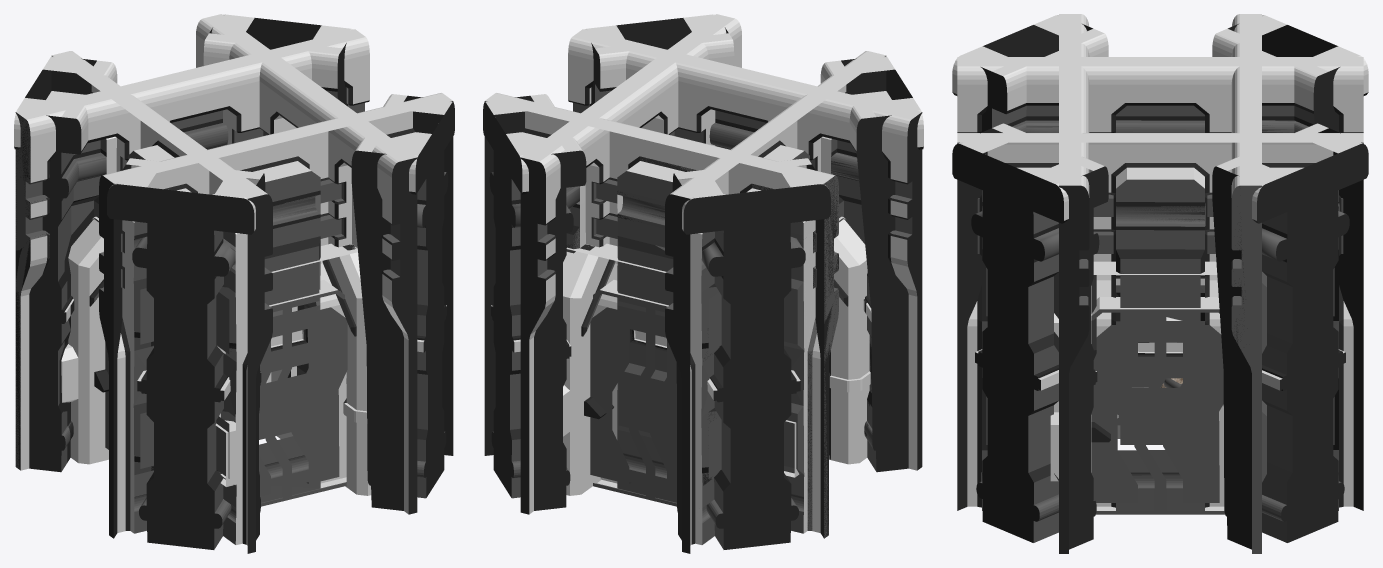
The model's file is Wallv2.fbx.
3 renders of one model, left to right at view 1: azimuth 30°, elevation 25°; view 2: azimuth 150°, elevation 25°; view 3: azimuth 270°, elevation 25°, orthographic. The views are drawn at different scales.
Visible parts, largest first — view 1: Standard_Wall_Outer_Angle_Left_90, Standard_Wall_Corridor_With_Door_270, Standard_Wall_Outer_Angle_Right, Standard_Wall_90, Standard_Wall_Corridor_With_Door_180, Standard_Wall_Outer_Angle_Right_90, Standard_Wall_Outer_Angle_Left_180, Standard_Wall_Inner_Angle_Right, Standard_Wall_Inner_Angle_Right_180, Standard_Wall_270, Standard_Wall_Inner_Angle_Left_90, Standard_Wall_180 (+14 smaller); view 2: Standard_Wall_Outer_Angle_Right_270, Standard_Wall_Corridor_With_Door_90, Standard_Wall_Outer_Angle_Left_270, Standard_Wall_Corridor_With_Door_180, Standard_Wall_Outer_Angle_Left, Standard_Wall_270, Standard_Wall_Inner_Angle_Right_90, Standard_Wall_Inner_Angle_Right_270, Standard_Wall_90, Standard_Wall, Standard_Wall_180, Standard_Wall_Outer_Angle_Right_180 (+14 smaller); view 3: Standard_Wall_Outer_Angle_Left_180, Standard_Wall_Outer_Angle_Right_180, Standard_Wall_Outer_Angle_Left_270, Standard_Wall_180, Standard_Wall_Outer_Angle_Right_90, Standard_Wall_Inner_Angle_Left_180, Standard_Wall_Inner_Angle_Right_180, Standard_Wall_Inner_Angle_Right_270, Scifi_Door_Left_180, Standard_Wall_Inner_Angle_Right, Standard_Wall_Corridor_With_Door, Standard_Wall_270 (+13 smaller).
Boxes of the visible parts, x1,y1,x2,y2 form: Standard_Wall_Outer_Angle_Left_90: (107, 94, 449, 546); Standard_Wall_Corridor_With_Door_270: (29, 43, 347, 472); Standard_Wall_Outer_Angle_Right: (91, 85, 255, 549); Standard_Wall_90: (99, 93, 442, 538); Standard_Wall_Corridor_With_Door_180: (203, 43, 403, 510); Standard_Wall_Outer_Angle_Right_90: (100, 101, 454, 533); Standard_Wall_Outer_Angle_Left_180: (206, 15, 435, 498); Standard_Wall_Inner_Angle_Right: (51, 56, 272, 553); Standard_Wall_Inner_Angle_Right_180: (196, 14, 392, 508); Standard_Wall_270: (15, 29, 369, 470); Standard_Wall_Inner_Angle_Left_90: (103, 94, 453, 531); Standard_Wall_180: (196, 18, 417, 514); Standard_Wall_Outer_Angle_Right_270: (525, 111, 830, 546); Standard_Wall_Corridor_With_Door_90: (590, 43, 908, 471); Standard_Wall_Outer_Angle_Left_270: (483, 99, 837, 533); Standard_Wall_Corridor_With_Door_180: (534, 31, 734, 510); Standard_Wall_Outer_Angle_Left: (682, 72, 845, 549); Standard_Wall_270: (485, 93, 838, 537); Standard_Wall_Inner_Angle_Right_90: (568, 29, 890, 472); Standard_Wall_Inner_Angle_Right_270: (484, 94, 838, 538); Standard_Wall_90: (568, 36, 922, 470); Standard_Wall: (665, 51, 866, 553); Standard_Wall_180: (520, 14, 741, 514); Standard_Wall_Outer_Angle_Right_180: (502, 14, 741, 498); Standard_Wall_Outer_Angle_Left_180: (952, 134, 1363, 532); Standard_Wall_Outer_Angle_Right_180: (961, 141, 1368, 532); Standard_Wall_Outer_Angle_Left_270: (1237, 14, 1312, 542); Standard_Wall_180: (957, 133, 1363, 507); Standard_Wall_Outer_Angle_Right_90: (1008, 15, 1087, 542); Standard_Wall_Inner_Angle_Left_180: (967, 123, 1363, 510); Standard_Wall_Inner_Angle_Right_180: (957, 124, 1363, 510); Standard_Wall_Inner_Angle_Right_270: (1212, 14, 1261, 545); Scifi_Door_Left_180: (1140, 309, 1224, 514); Standard_Wall_Inner_Angle_Right: (957, 57, 1331, 386); Standard_Wall_Corridor_With_Door: (980, 57, 1340, 438); Standard_Wall_270: (1231, 14, 1266, 553).
Bounding box in the file's own units: 410 × 401 × 410.
